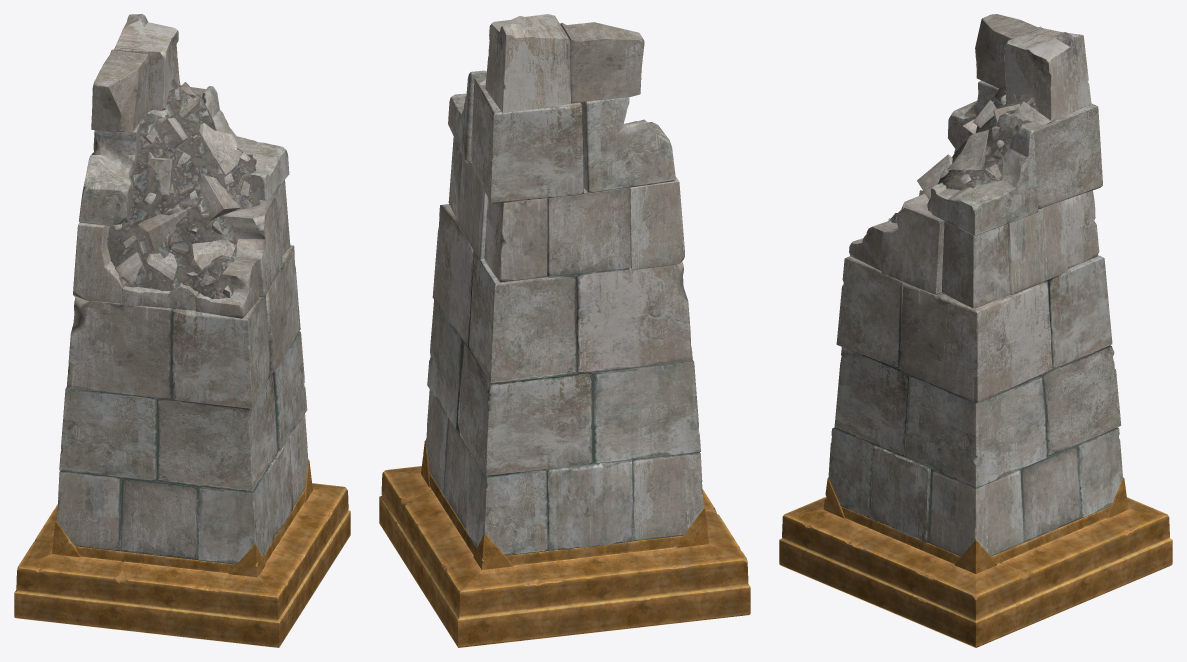
3 renders of one model, left to right at view 1: azimuth 30°, elevation 25°; view 2: azimuth 150°, elevation 25°; view 3: azimuth 270°, elevation 25°, orthographic. The views are drawn at different scales.
Visible parts, largest first — view 1: SM_DK_Pyramid_Column_01_Dmg_LOD0; view 2: SM_DK_Pyramid_Column_01_Dmg_LOD0; view 3: SM_DK_Pyramid_Column_01_Dmg_LOD0.
Boxes of the visible parts, box(x1,y1,x2,y2) form: SM_DK_Pyramid_Column_01_Dmg_LOD0: box(14, 14, 350, 647); SM_DK_Pyramid_Column_01_Dmg_LOD0: box(379, 14, 750, 647); SM_DK_Pyramid_Column_01_Dmg_LOD0: box(779, 14, 1172, 647).
Size of the model in its own units: 10.59 by 15.87 by 10.59.
3 materials, 3 textured.
